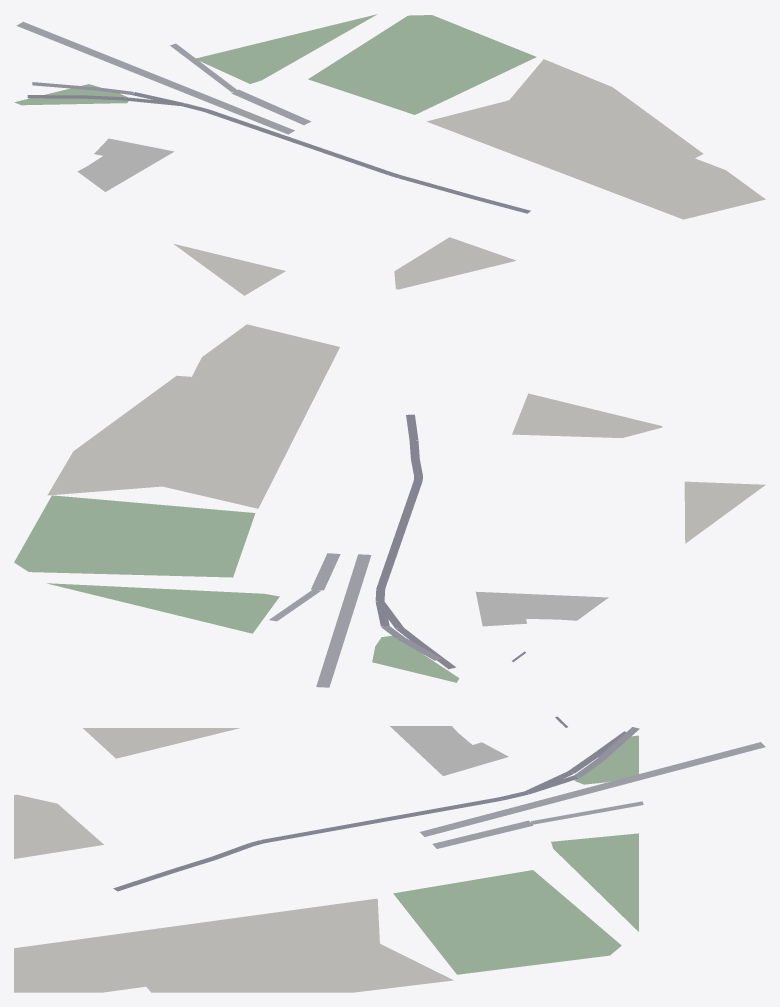
Rendered from 136_96_mid.glb.
3 renders of one model, top to bottom at view 1: azimuth 30°, elevation 25°; view 2: azimuth 150°, elevation 25°; view 3: azimuth 270°, elevation 25°, orthographic. The views are drawn at different scales.
Size of the model in its own units: 503 by 26.18 by 602.
